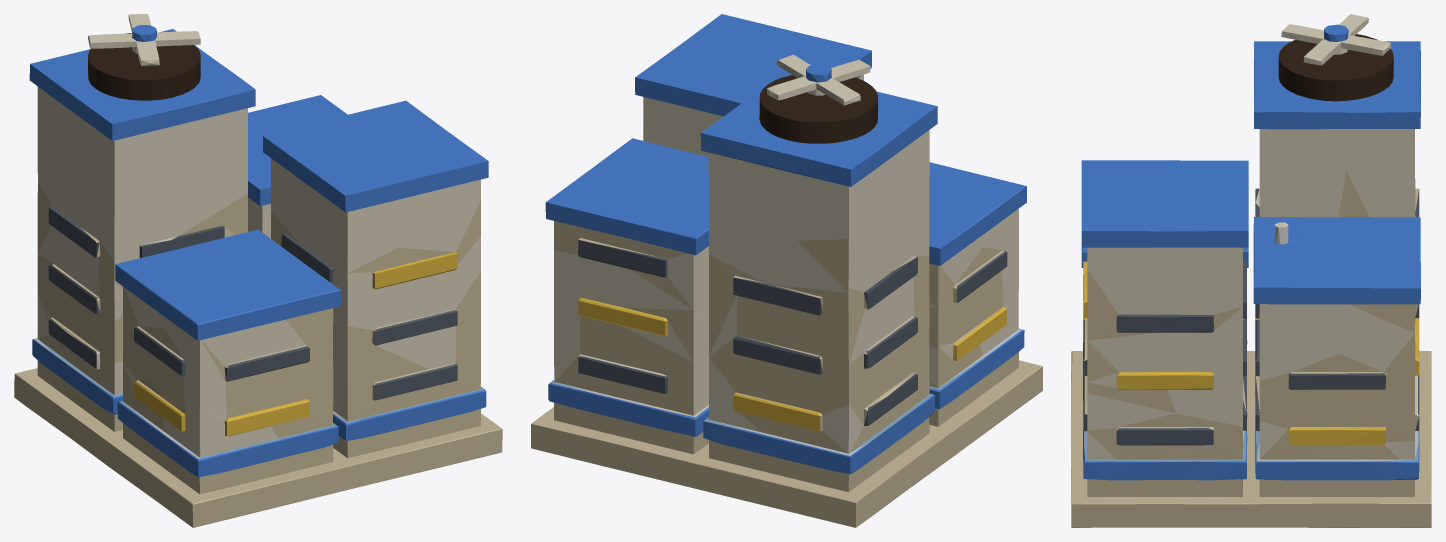
File: cluster-tripo-A.glb
3 views of the same model, side by side, from view 1: azimuth 30°, elevation 25°; view 2: azimuth 150°, elevation 25°; view 3: azimuth 270°, elevation 25° (orthographic). The views are drawn at different scales.
Parts seen in each view (by area): view 1: cluster; view 2: cluster; view 3: cluster.
Part boxes in pixels (x1,y1,x2,y2): cluster: (14,14,502,527); cluster: (531,14,1042,527); cluster: (1071,14,1431,527).
Size of the model in its own units: 1.61 by 1.9 by 1.61.
